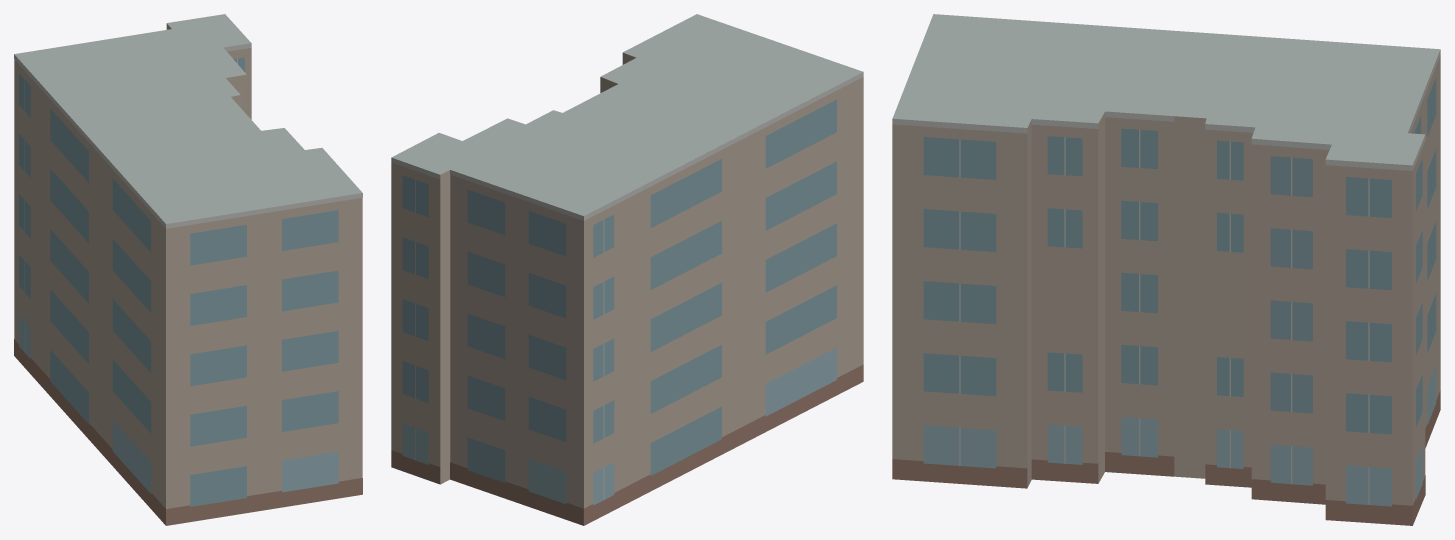
Rendered from survey-upis-32660217.glb.
3 renders of one model, left to right at view 1: azimuth 30°, elevation 25°; view 2: azimuth 150°, elevation 25°; view 3: azimuth 270°, elevation 25°, orthographic. The views are drawn at different scales.
Visible parts, largest first — view 1: survey-upis-32660217.tmp; view 2: survey-upis-32660217.tmp; view 3: survey-upis-32660217.tmp.
Part boxes in pixels (<box>): survey-upis-32660217.tmp: <box>14,14,362,525</box>; survey-upis-32660217.tmp: <box>391,14,863,525</box>; survey-upis-32660217.tmp: <box>892,14,1440,525</box>.
Bounding box in the file's own units: 14.1 × 15.65 × 21.58.
